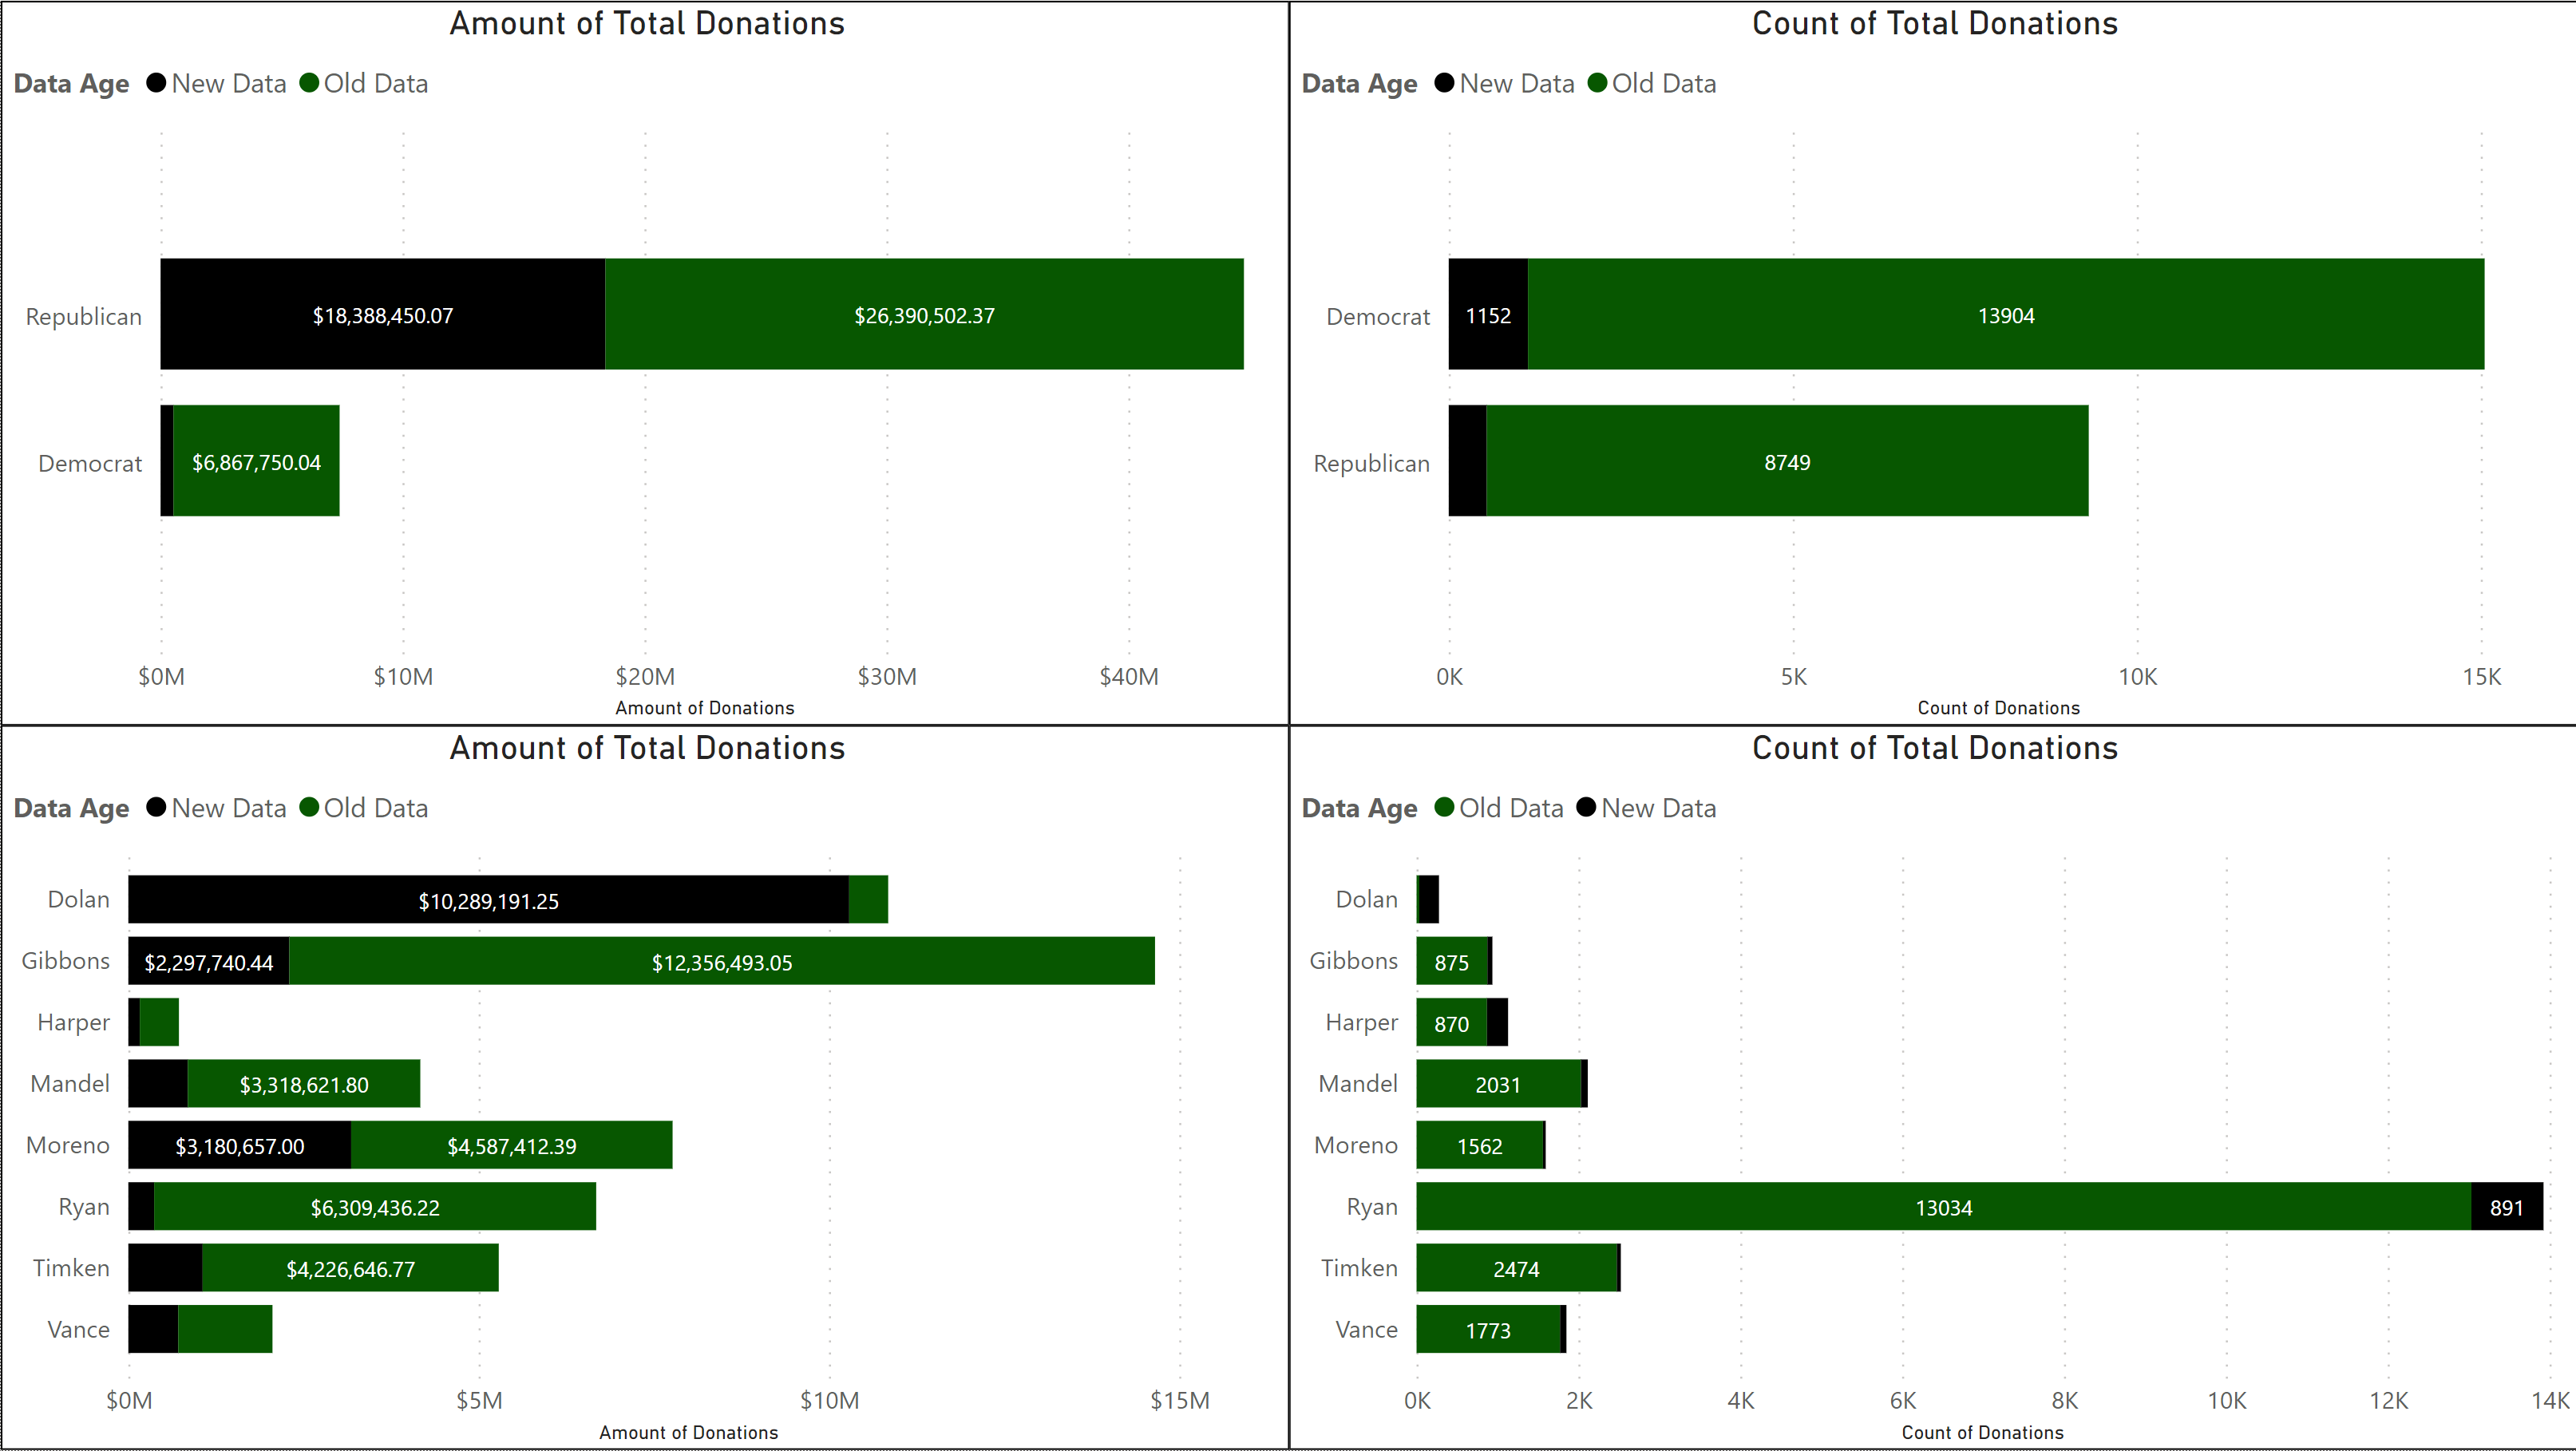

This screenshot's page, from the dashboard's own definition file:
{"tool":"powerbi","page":{"name":"Differences","canvas":[1280,720],"ordinal":2},"visuals":[{"type":"barChart","title":"Amount of Total Donations","fields":{"Y":["FEC_Data_Agg.Contribution Receipt Amount"],"Category":["Candidate Table.Political Party Hierarchy.Political Party"],"Series":["FEC_Data_Agg.Data Age"]},"box":[0,0,640,360],"z":0},{"type":"barChart","title":"Count of Total Donations","fields":{"Y":["FEC_Data_Agg.Contribution Receipt Amount"],"Category":["Candidate Table.Political Party Hierarchy.Political Party"],"Series":["FEC_Data_Agg.Data Age"]},"box":[639.7,0,640.2,360],"z":1000},{"type":"barChart","title":"Count of Total Donations","fields":{"Y":["FEC_Data_Agg.Contribution Receipt Amount"],"Category":["Candidate Table.Political Party Hierarchy.Candidate Last Name"],"Series":["FEC_Data_Agg.Data Age"]},"box":[639.7,359.8,640.2,360.2],"z":2000},{"type":"barChart","title":"Amount of Total Donations","fields":{"Y":["FEC_Data_Agg.Contribution Receipt Amount"],"Category":["Candidate Table.Political Party Hierarchy.Candidate Last Name"],"Series":["FEC_Data_Agg.Data Age"]},"box":[0,359.8,640.2,360.2],"z":3000}]}

Visuals, with their boxes in screenshot pixels (x1, y1, x2, y2), scaled from the page's 1280x720 canvas onto the 2576x1451 screenshot:
"Amount of Total Donations" barChart: 0,0,1288,725
"Count of Total Donations" barChart: 1288,0,2575,725
"Count of Total Donations" barChart: 1288,725,2575,1450
"Amount of Total Donations" barChart: 0,725,1288,1450
